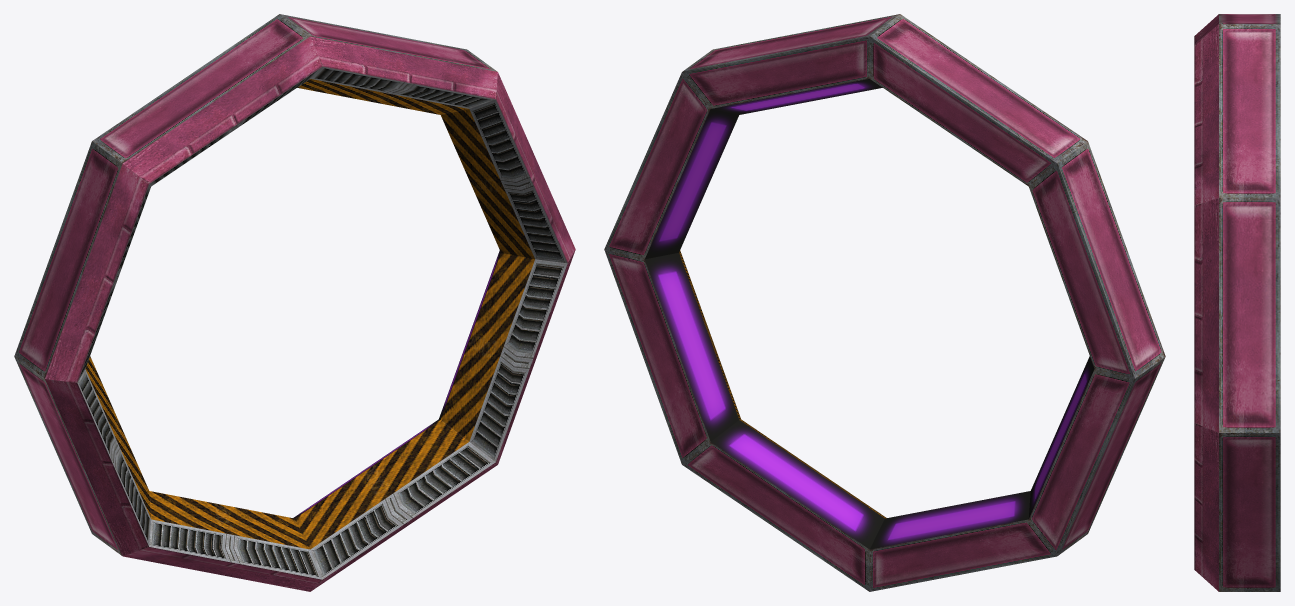
The model's file is dash_ring.fbx.
The picture shows the model from 3 angles, left to right: view 1: azimuth 30°, elevation 25°; view 2: azimuth 150°, elevation 25°; view 3: azimuth 270°, elevation 25°; orthographic projection.
Visible parts, largest first — view 1: Dash Ring; view 2: Dash Ring; view 3: Dash Ring.
Part boxes in pixels (x1,y1,x2,y2): Dash Ring: (14, 14, 575, 591); Dash Ring: (604, 14, 1165, 591); Dash Ring: (1194, 14, 1280, 591).
Bounding box in the file's own units: 5.58 × 5.58 × 0.7811.
